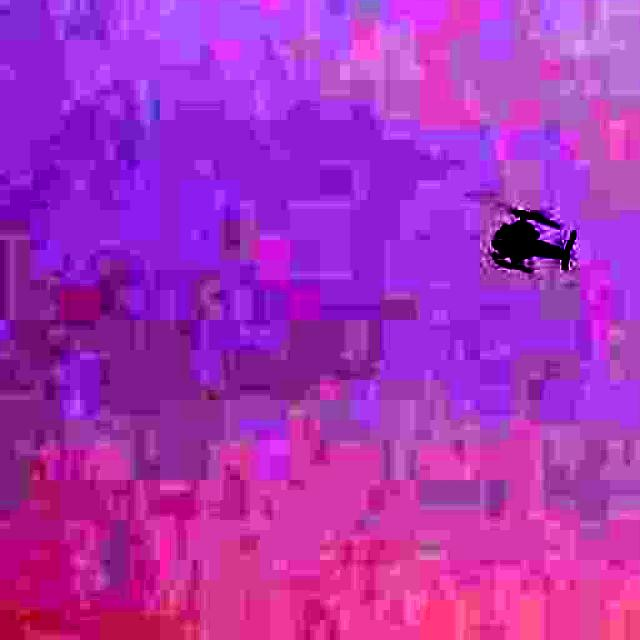drone: (452, 168, 586, 298)
